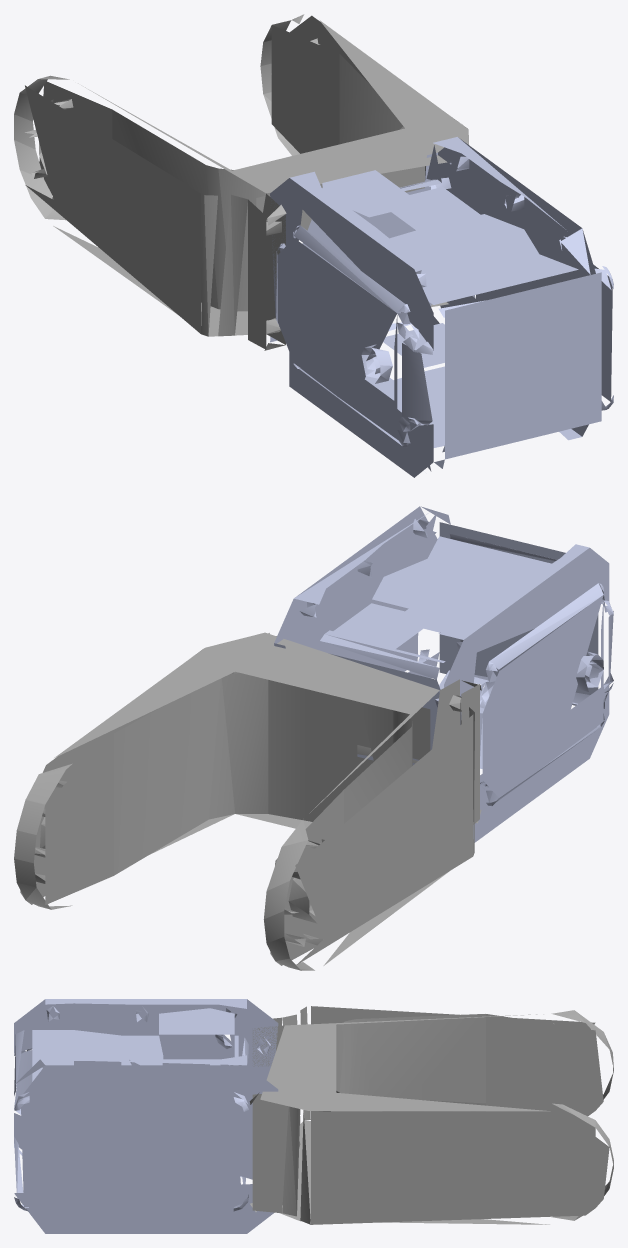
File: part_21_opt.obj
3 views of the same model, one above another, from view 1: azimuth 30°, elevation 25°; view 2: azimuth 150°, elevation 25°; view 3: azimuth 270°, elevation 25° (orthographic). The views are drawn at different scales.
Visible parts, largest first — view 1: NONE_DC_Shell, Cut_Extrude11_DC_Shell; view 2: Cut_Extrude11_DC_Shell, NONE_DC_Shell; view 3: Cut_Extrude11_DC_Shell, NONE_DC_Shell.
Part boxes in pixels (box(x1,y1,x2,y2)): NONE_DC_Shell: box(270, 137, 613, 477); Cut_Extrude11_DC_Shell: box(14, 14, 468, 350); Cut_Extrude11_DC_Shell: box(14, 632, 481, 970); NONE_DC_Shell: box(274, 506, 613, 842); Cut_Extrude11_DC_Shell: box(249, 1006, 613, 1224); NONE_DC_Shell: box(14, 999, 278, 1233).
Bounding box in the file's own units: 47.6 × 35.6 × 115.
